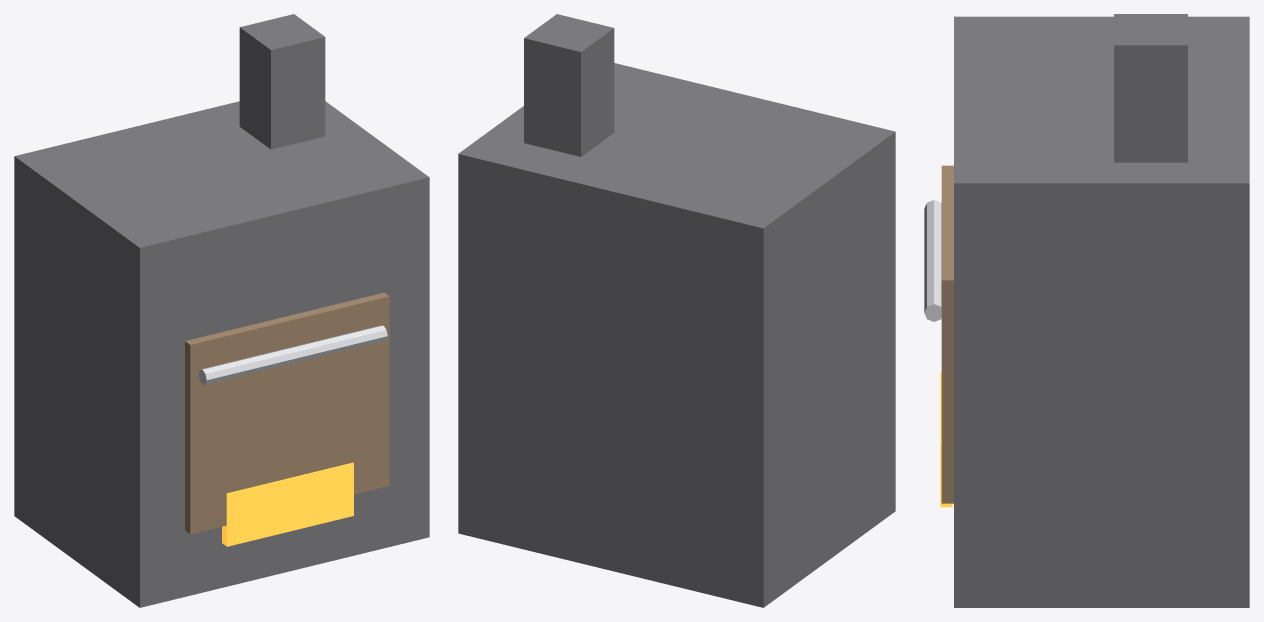
The model's file is oven.glb.
The picture shows the model from 3 angles, left to right: view 1: azimuth 30°, elevation 25°; view 2: azimuth 150°, elevation 25°; view 3: azimuth 270°, elevation 25°; orthographic projection. The views are drawn at different scales.
Parts seen in each view (by area): view 1: Oven_Body, Oven_Door, Oven_Chimney, Oven_Fire, Oven_Handle; view 2: Oven_Body, Oven_Chimney; view 3: Oven_Body, Oven_Chimney, Oven_Door, Oven_Handle.
Boxes of the visible parts, <box> form: Oven_Body: <box>14,101,429,607</box>; Oven_Door: <box>185,292,389,534</box>; Oven_Chimney: <box>239,14,325,149</box>; Oven_Fire: <box>222,462,353,546</box>; Oven_Handle: <box>199,325,387,384</box>; Oven_Body: <box>458,63,895,607</box>; Oven_Chimney: <box>524,14,614,156</box>; Oven_Body: <box>954,16,1249,607</box>; Oven_Chimney: <box>1114,14,1187,162</box>; Oven_Door: <box>941,165,953,503</box>; Oven_Handle: <box>924,200,941,321</box>.
Bounding box in the file's own units: 1.6 × 2.43 × 1.32.
